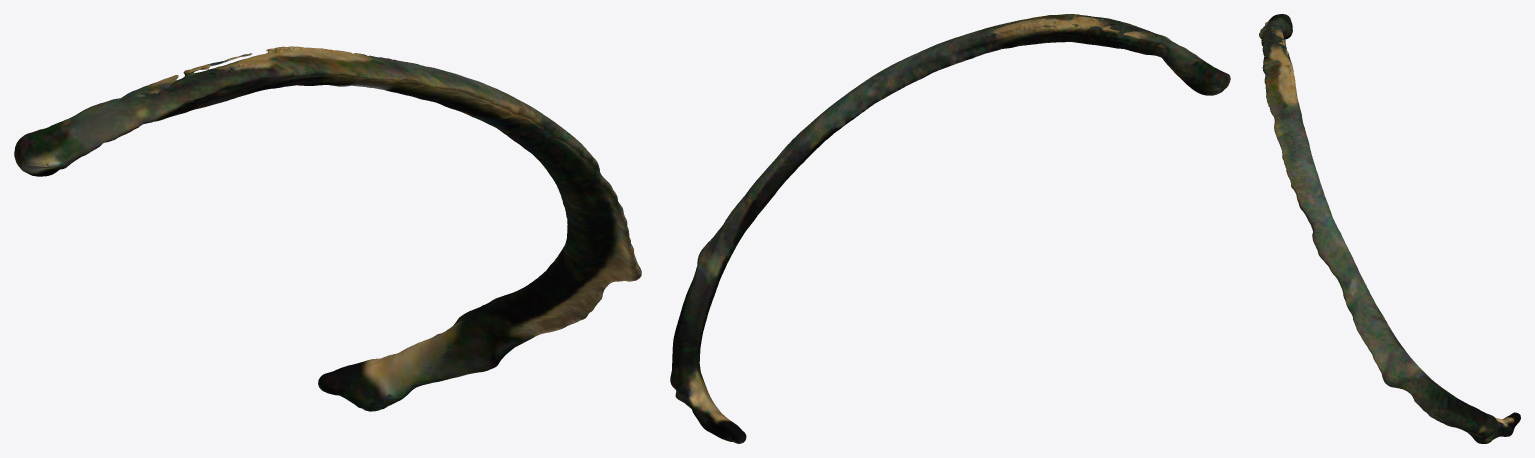
The model's file is 13_ribs.glb.
The picture shows the model from 3 angles, left to right: view 1: azimuth 30°, elevation 25°; view 2: azimuth 150°, elevation 25°; view 3: azimuth 270°, elevation 25°; orthographic projection. The views are drawn at different scales.
Parts seen in each view (by area): view 1: Node; view 2: Node; view 3: Node.
Boxes of the visible parts, x1,y1,x2,y2 form: Node: (14,46,641,411); Node: (670,14,1230,443); Node: (1259,14,1520,443).
Bounding box in the file's own units: 57.07 × 44.53 × 35.42.
Materials: 1 (1 with a texture image).
